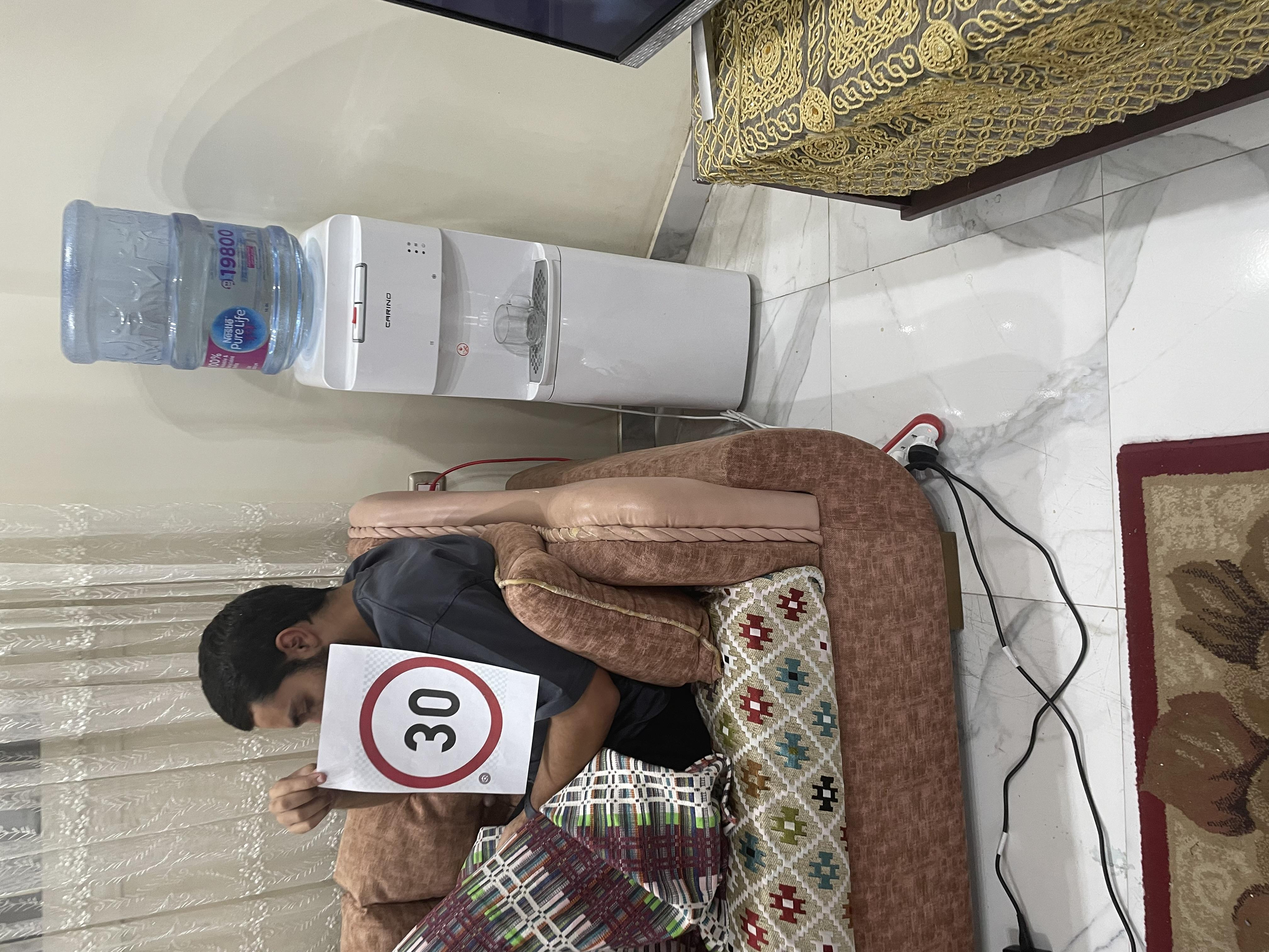30-speed: (210, 267, 395, 381)
